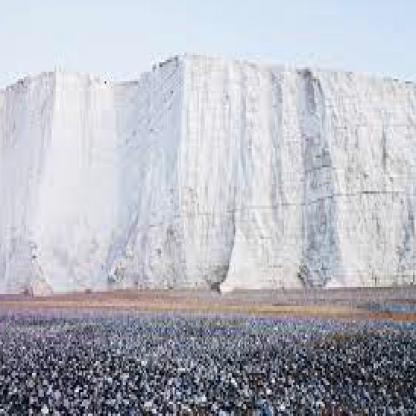Sedimentary_Chalk: (2, 79, 96, 292), (319, 84, 413, 282), (233, 72, 312, 287), (108, 82, 173, 284), (184, 62, 223, 287)
